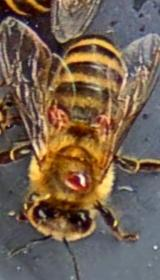varroa_mite: (86, 94, 125, 141), (31, 99, 82, 134), (54, 161, 98, 196)
